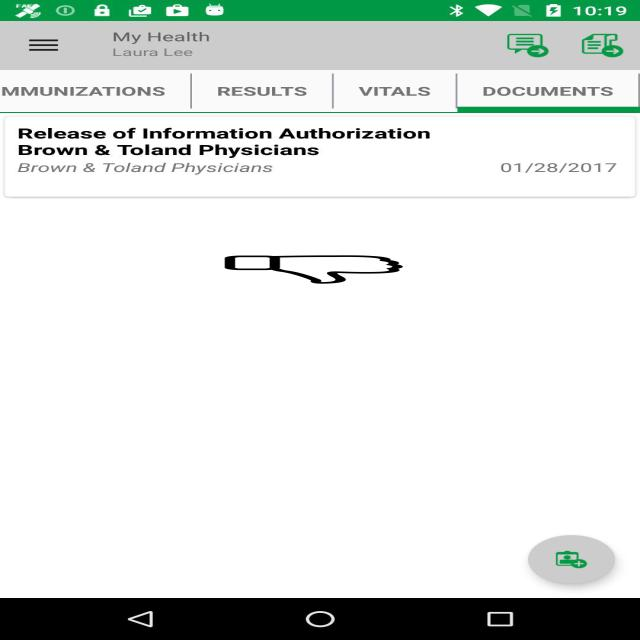obstruction: (222, 255, 406, 284)
